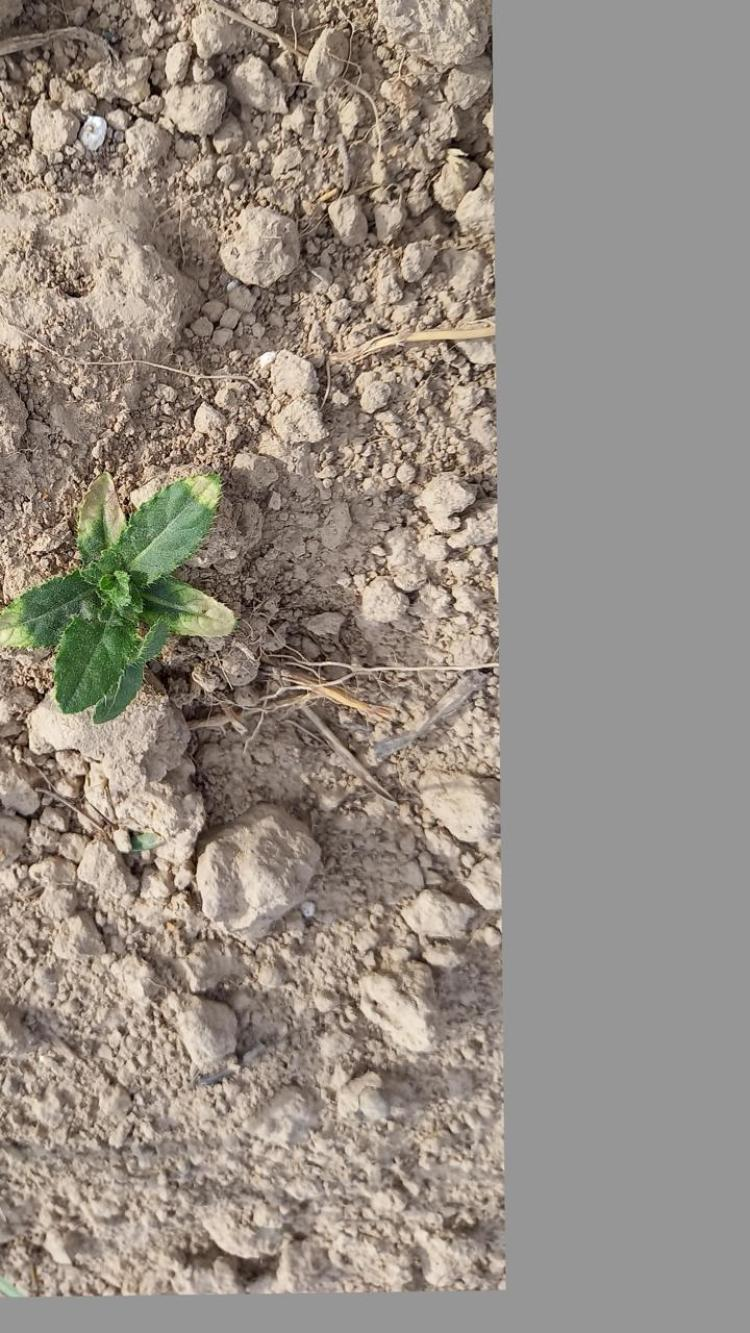bodyak: (4, 458, 246, 715)
